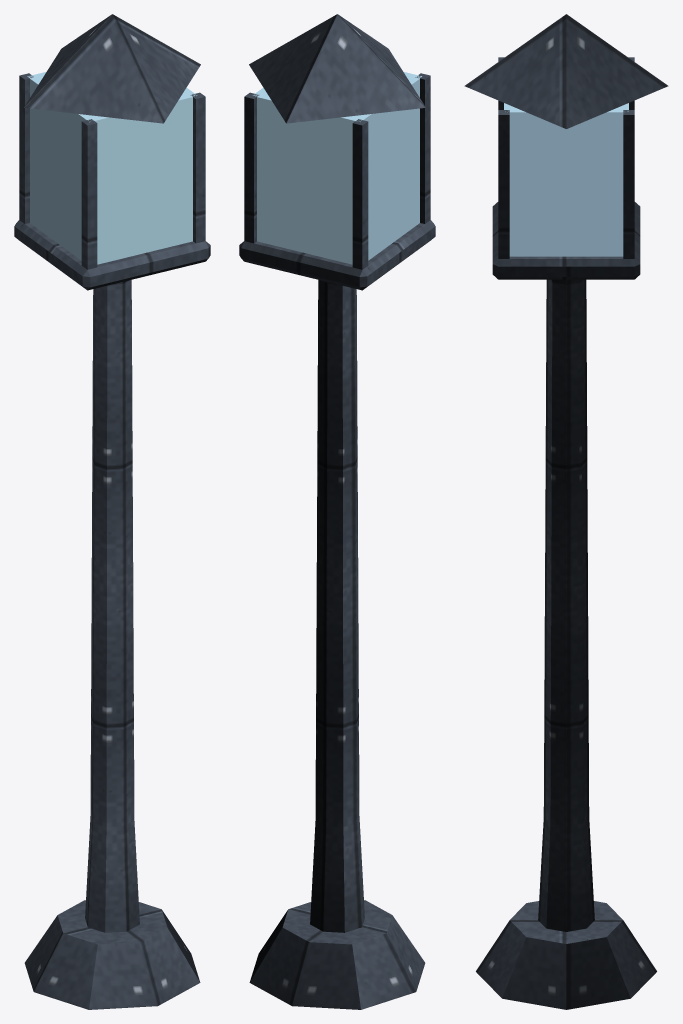
File: lamp_post.glb
3 views of the same model, side by side, from view 1: azimuth 30°, elevation 25°; view 2: azimuth 150°, elevation 25°; view 3: azimuth 270°, elevation 25° (orthographic).
Parts seen in each view (by area): view 1: lamp_post; view 2: lamp_post; view 3: lamp_post.
Boxes of the visible parts, x1=… form: lamp_post: x1=14, y1=14, x2=210, y2=1009; lamp_post: x1=239, y1=14, x2=435, y2=1009; lamp_post: x1=464, y1=14, x2=668, y2=1009.
Size of the model in its own units: 0.36 by 1.86 by 0.36.
Materials: 4 (4 with a texture image).
